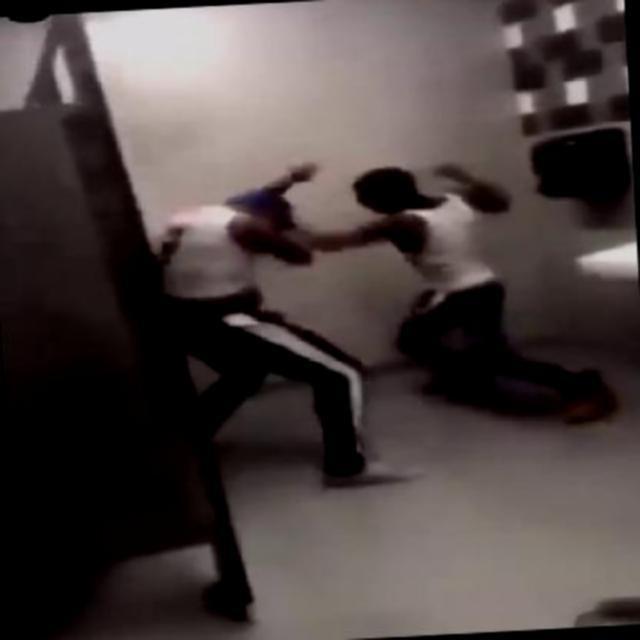fight: (147, 147, 624, 495)
